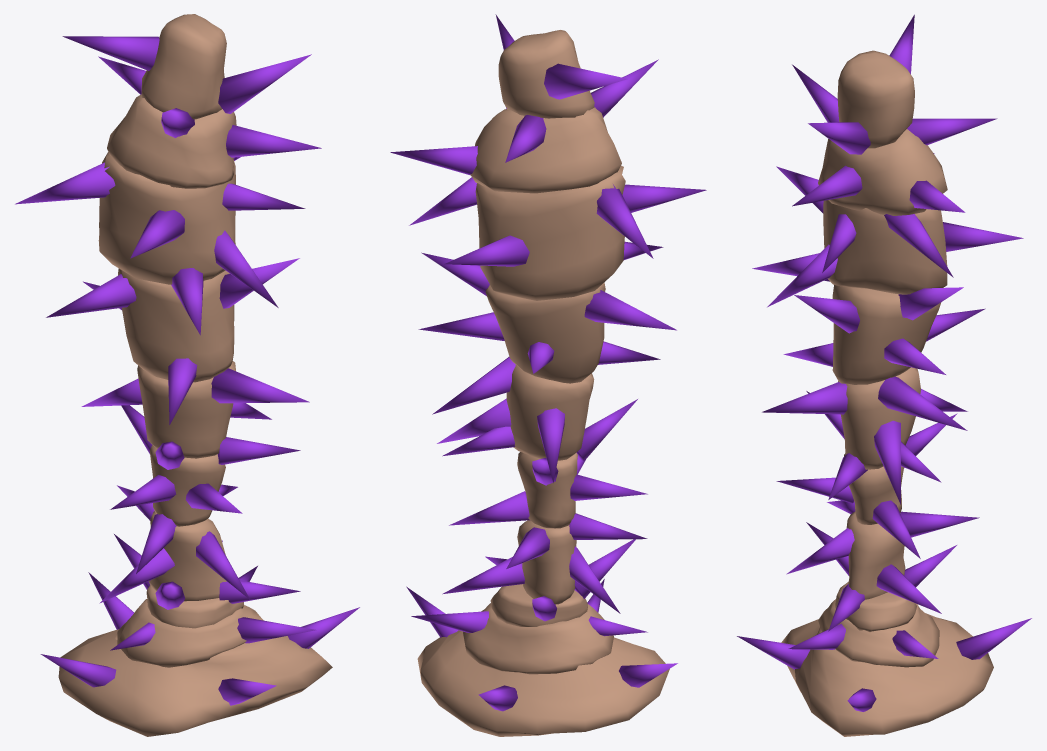
Rendered from obs_stal_medium_spikes.fbx.
3 views of the same model, side by side, from view 1: azimuth 30°, elevation 25°; view 2: azimuth 150°, elevation 25°; view 3: azimuth 270°, elevation 25° (orthographic). The views are drawn at different scales.
Parts seen in each view (by area): view 1: stal_medium_spikes; view 2: stal_medium_spikes; view 3: stal_medium_spikes.
Boxes of the visible parts, x1,y1,x2,y2 form: stal_medium_spikes: (15, 14, 359, 736); stal_medium_spikes: (390, 14, 706, 736); stal_medium_spikes: (737, 14, 1031, 736).
Size of the model in its own units: 1 by 2.14 by 0.9202.
